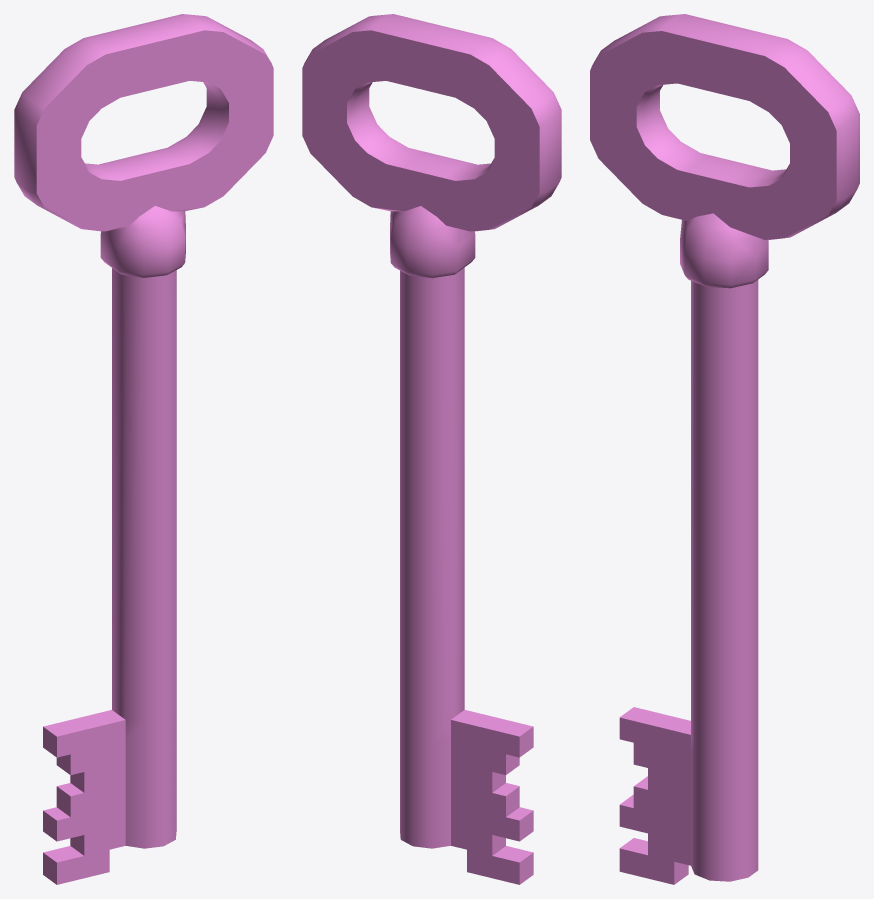
File: Keys_24.FBX
The picture shows the model from 3 angles, left to right: view 1: azimuth 30°, elevation 25°; view 2: azimuth 150°, elevation 25°; view 3: azimuth 330°, elevation 25°; orthographic projection. The views are drawn at different scales.
Visible parts, largest first — view 1: Keys_24; view 2: Keys_24; view 3: Keys_24.
Boxes of the visible parts, x1,y1,x2,y2 form: Keys_24: (14,14,273,884); Keys_24: (302,14,561,884); Keys_24: (590,14,859,884).
Size of the model in its own units: 1.07 by 3.47 by 0.3408.
